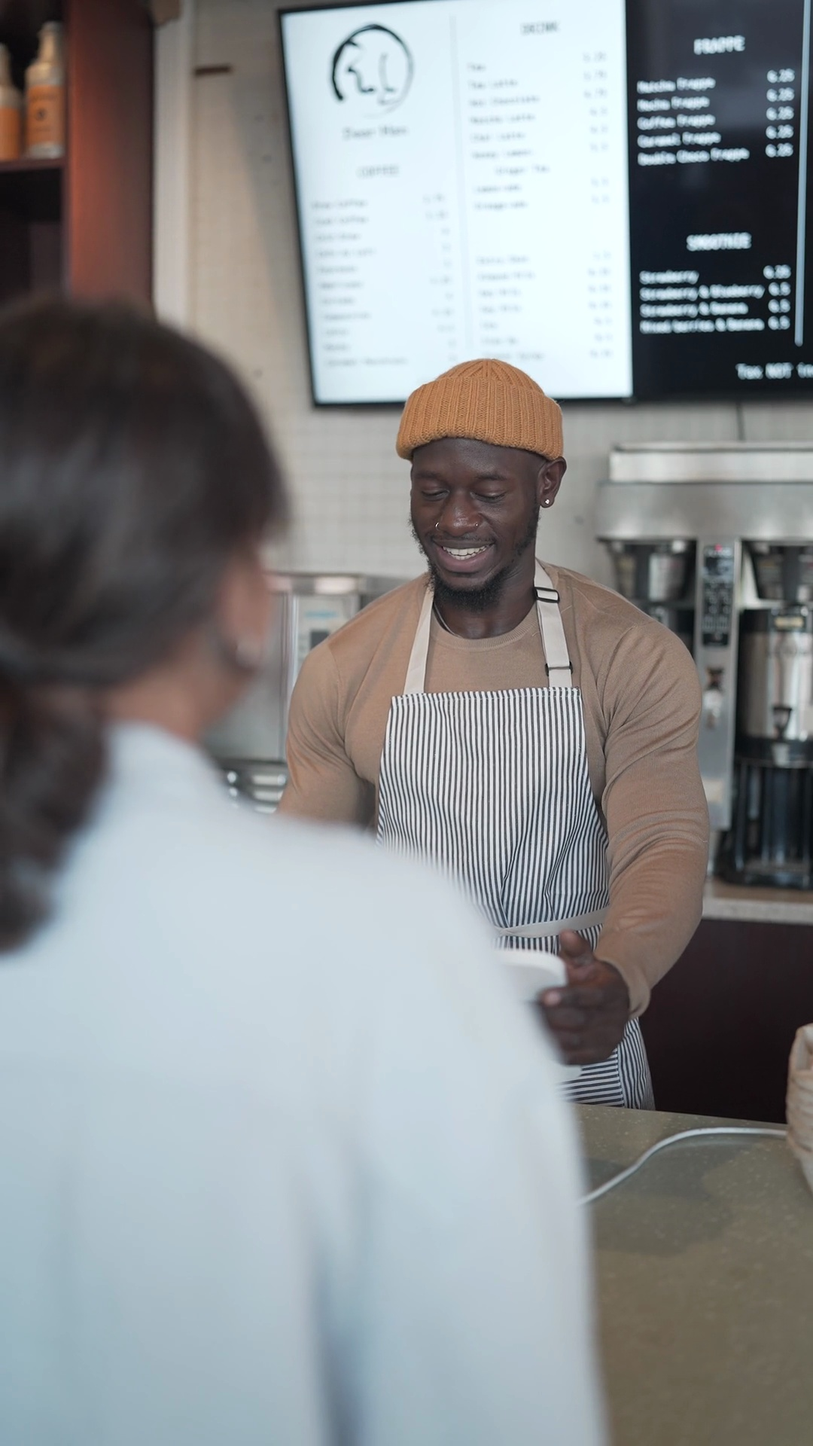dates_box: (261, 1, 799, 428), (467, 1, 813, 415), (525, 0, 813, 337), (491, 0, 813, 175)
electronics: (0, 0, 168, 326)
watch: (320, 471, 813, 1366), (0, 505, 639, 1042), (336, 719, 813, 1435), (298, 301, 813, 914), (336, 440, 787, 896), (408, 427, 813, 934), (298, 303, 812, 686), (511, 876, 813, 1442), (450, 721, 813, 1135), (186, 532, 550, 863)
